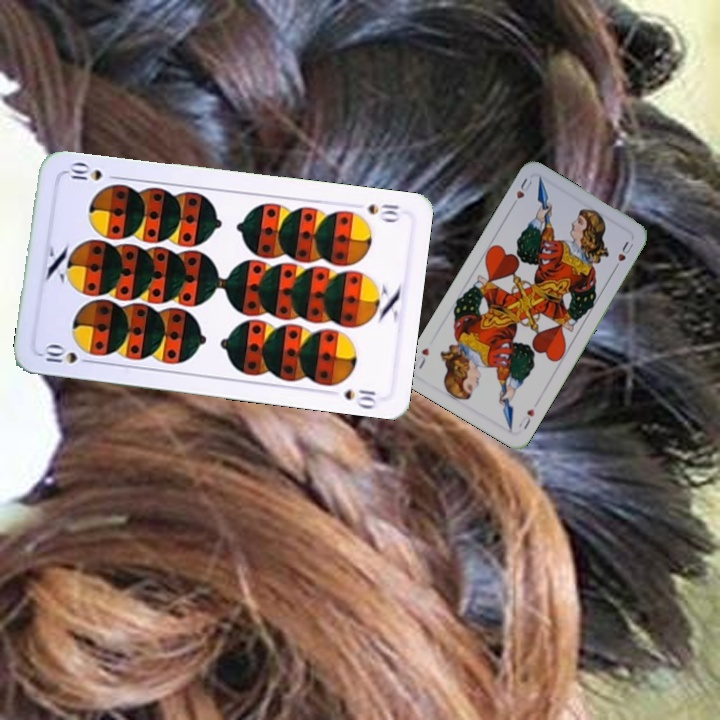HU: (507, 174, 536, 210), (514, 404, 537, 432)
S10: (37, 341, 96, 366), (363, 200, 402, 224)
